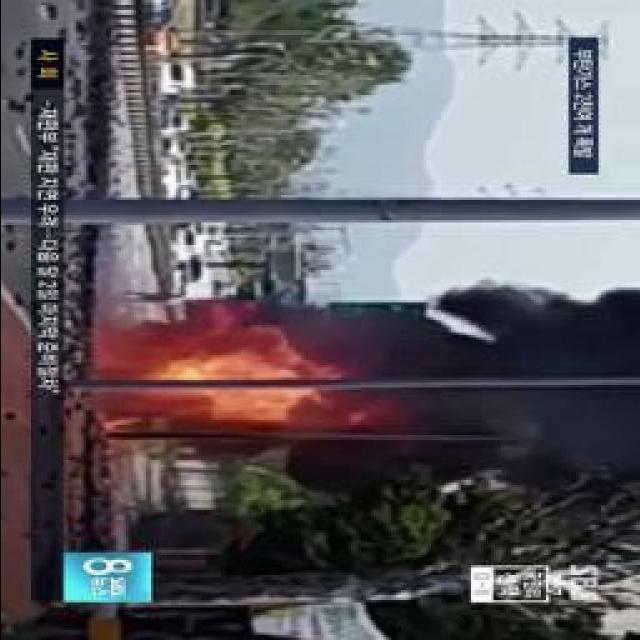Fire: (80, 327, 290, 435)
